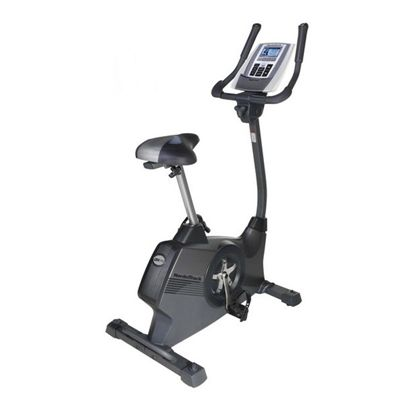gym_bike: (85, 27, 305, 388)
